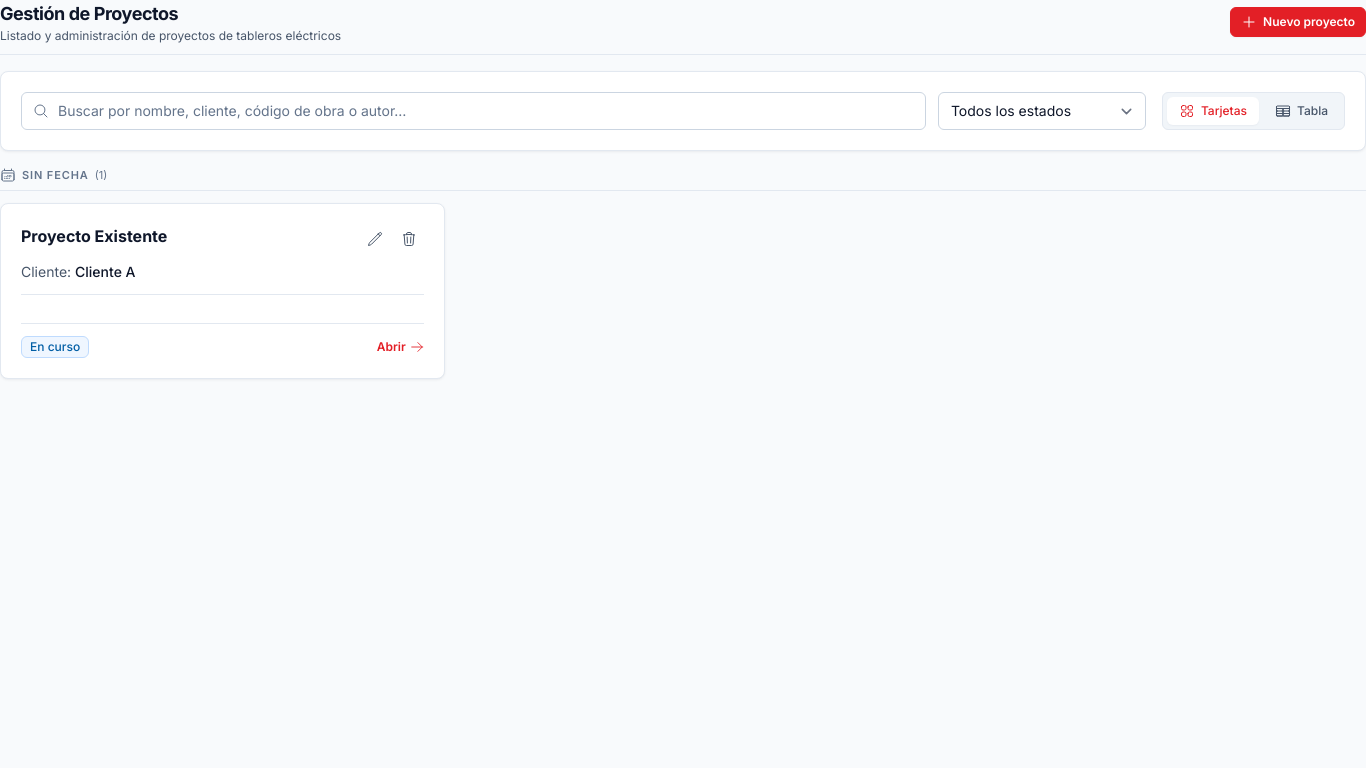
Test case: ProyectosPage › opens the modal, creates a new project, and adds it to the list
The width and height of the screenshot is (1366, 768).
Expected: the link "Proyecto Existente" is shown, 21,224 -> 167,248
Click the button "Nuevo proyecto" at (1298, 22), box 1230,7 -> 1365,37
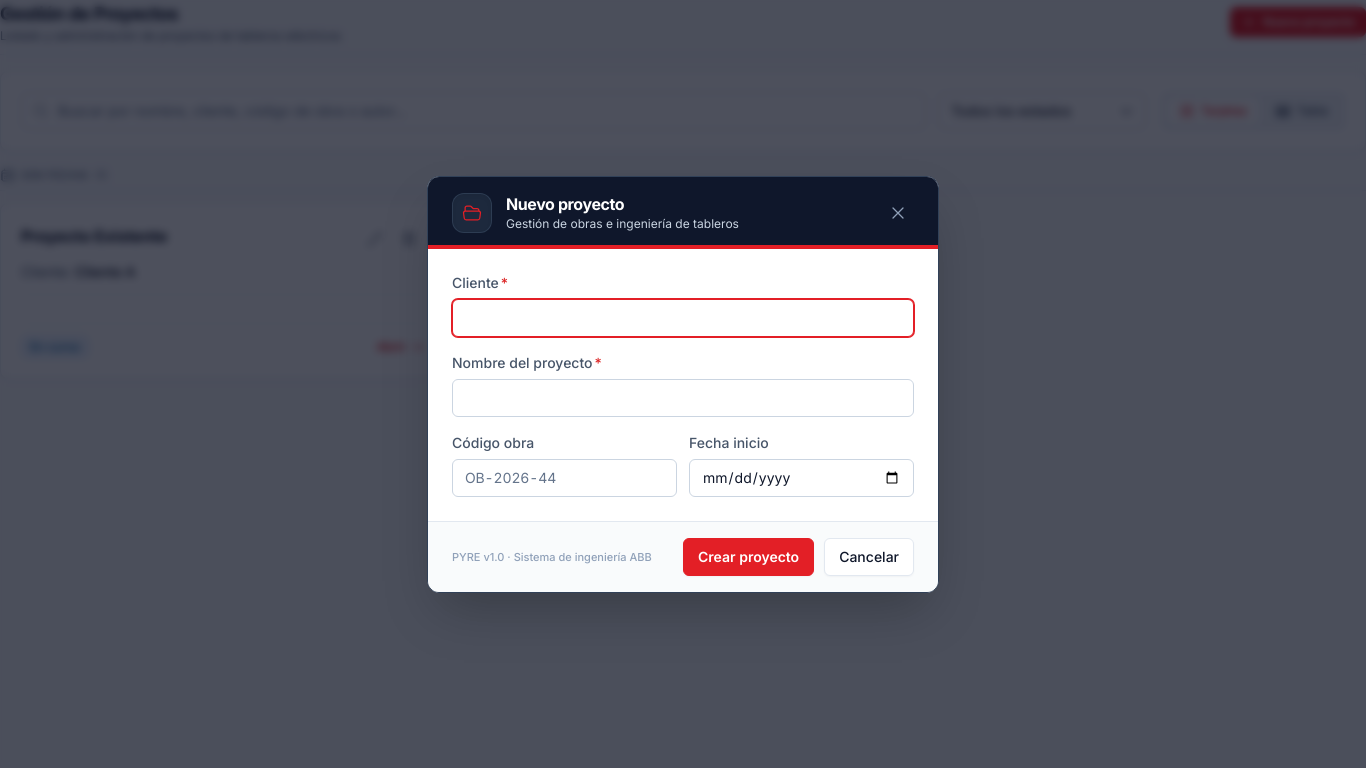
Type "Cliente Nuevo" into the field labelled "Cliente*" at (683, 318), box 452,298 -> 914,336
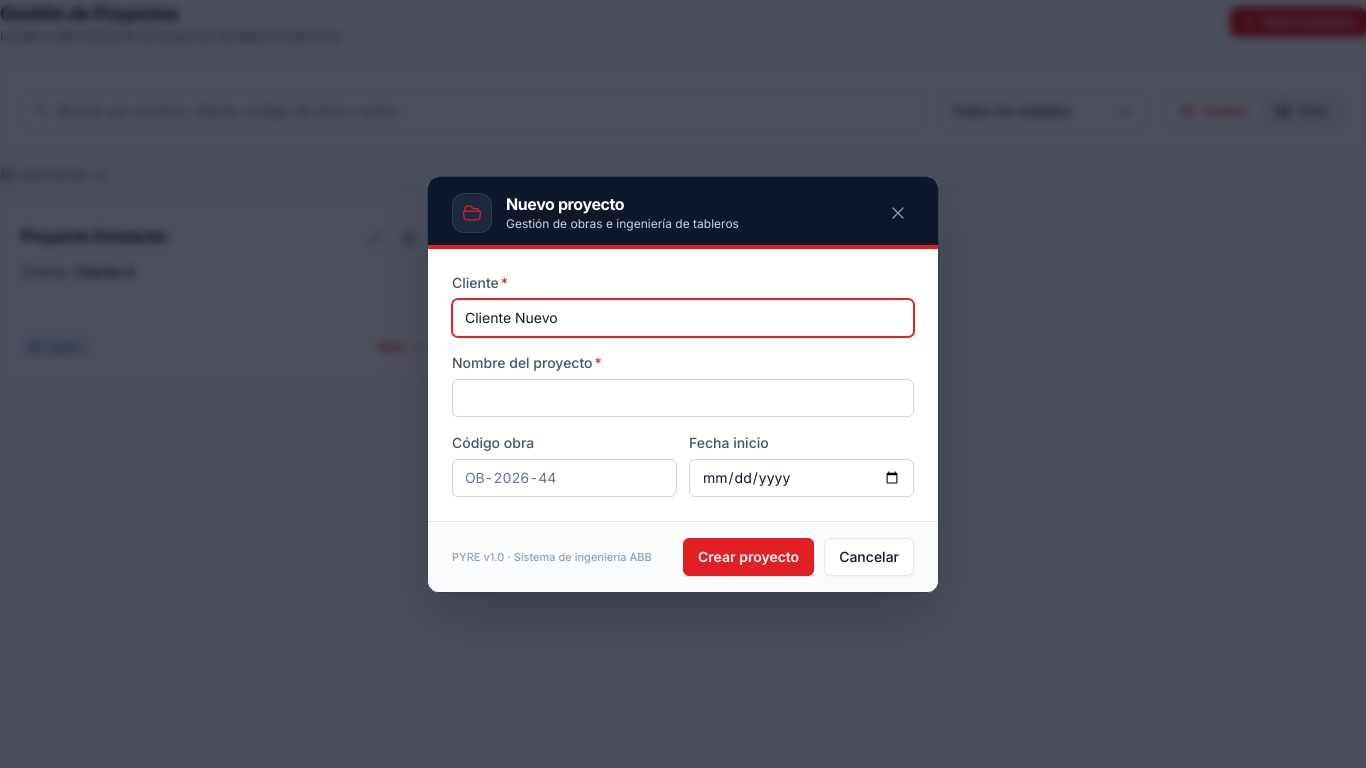
Type "Proyecto Nuevo" into the field labelled "Nombre del proyecto*" at (683, 398), box 452,378 -> 914,416
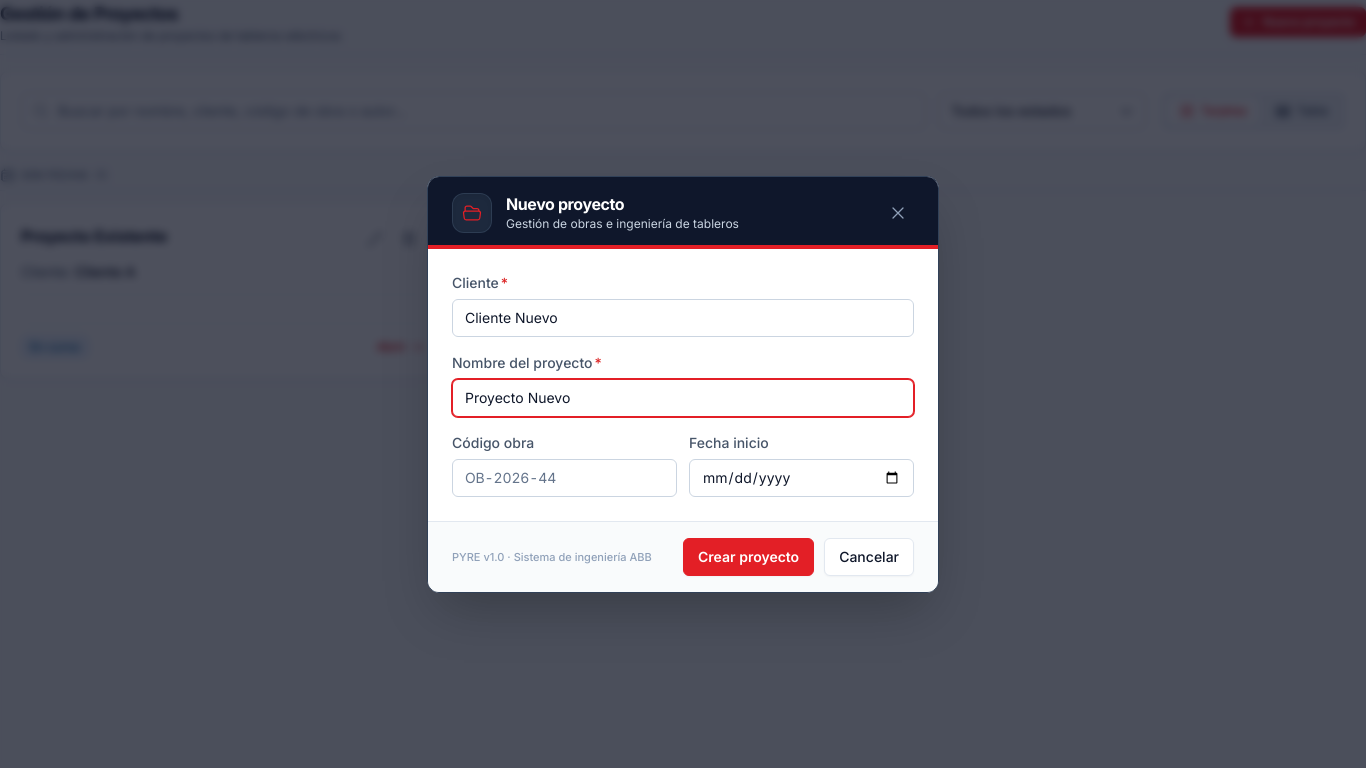
Click the button "Crear proyecto" at (749, 556), box 683,538 -> 814,576
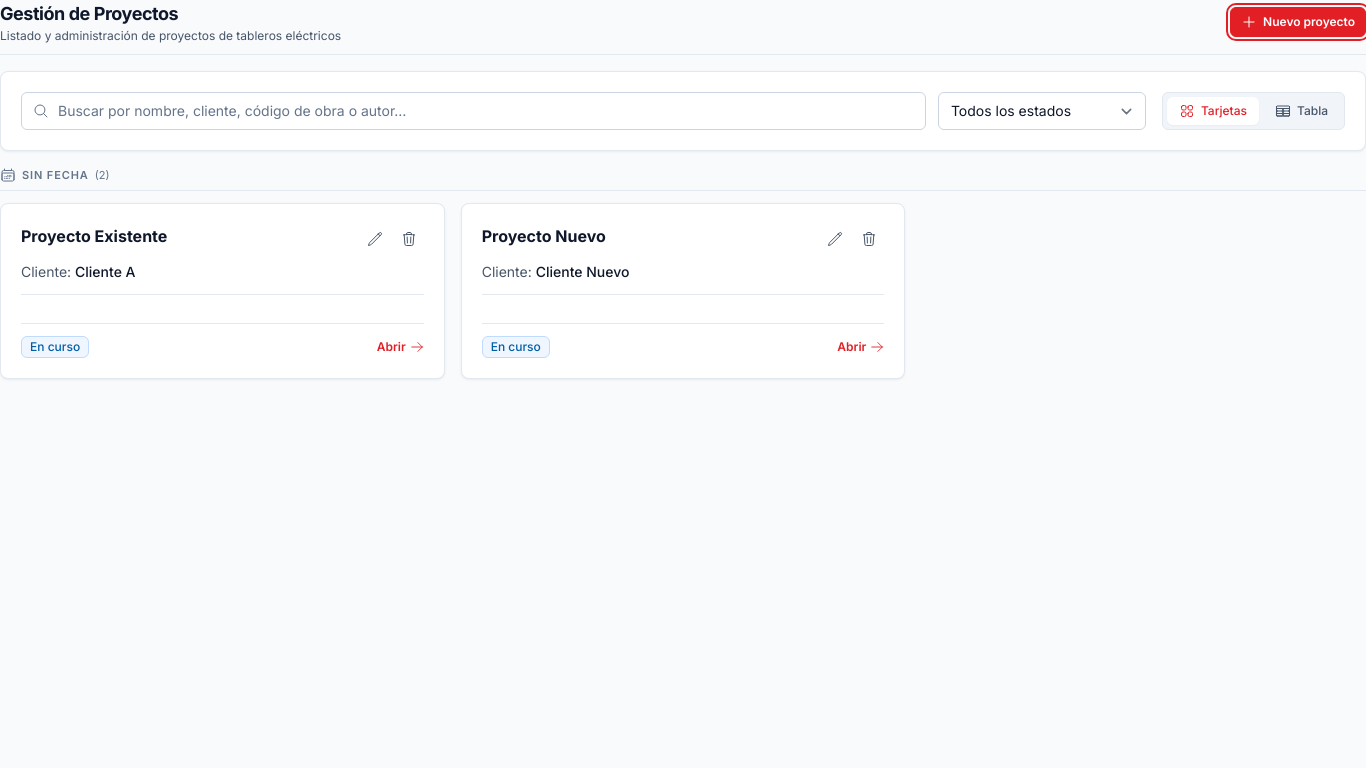
Now the link "Proyecto Nuevo" is shown, box 482,224 -> 606,248
